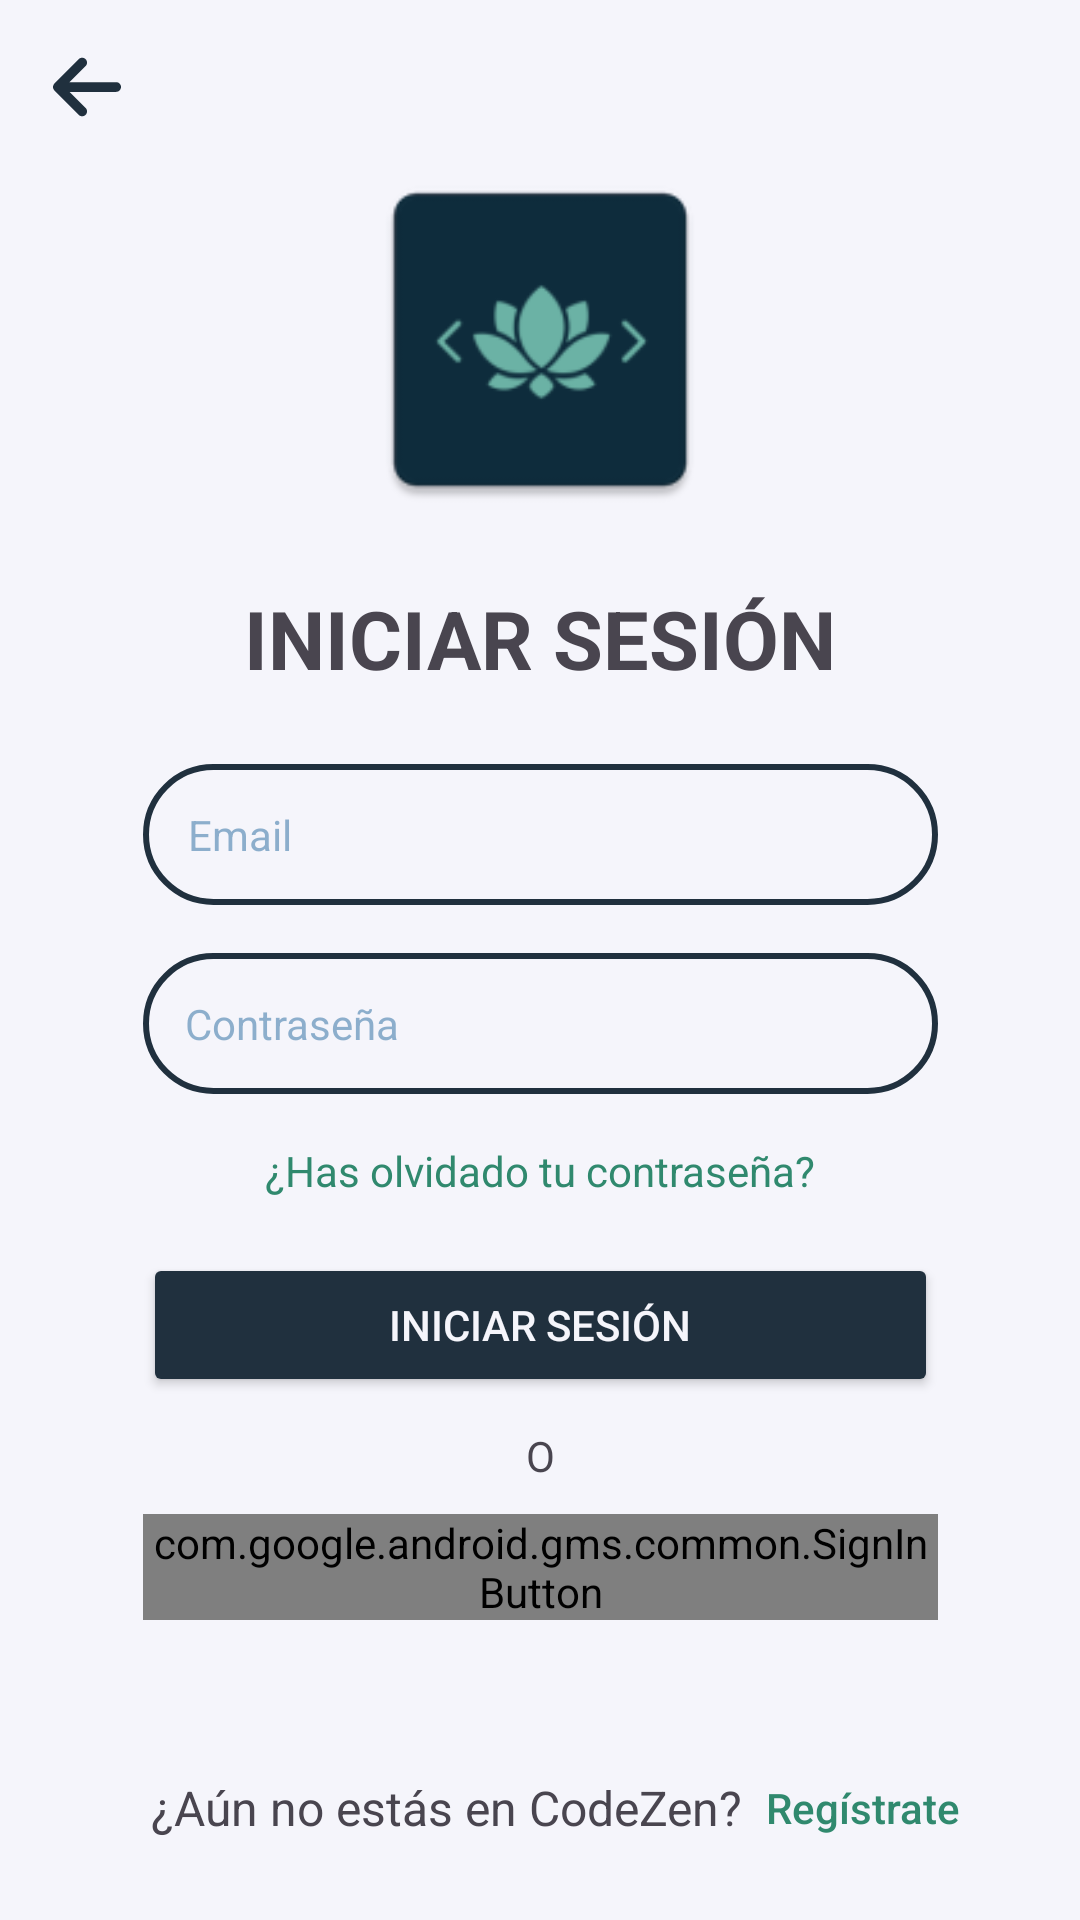

Named icons in this screenshot (1080x1920) and their centers, [x,y]:
go back arrow: [87,87]
